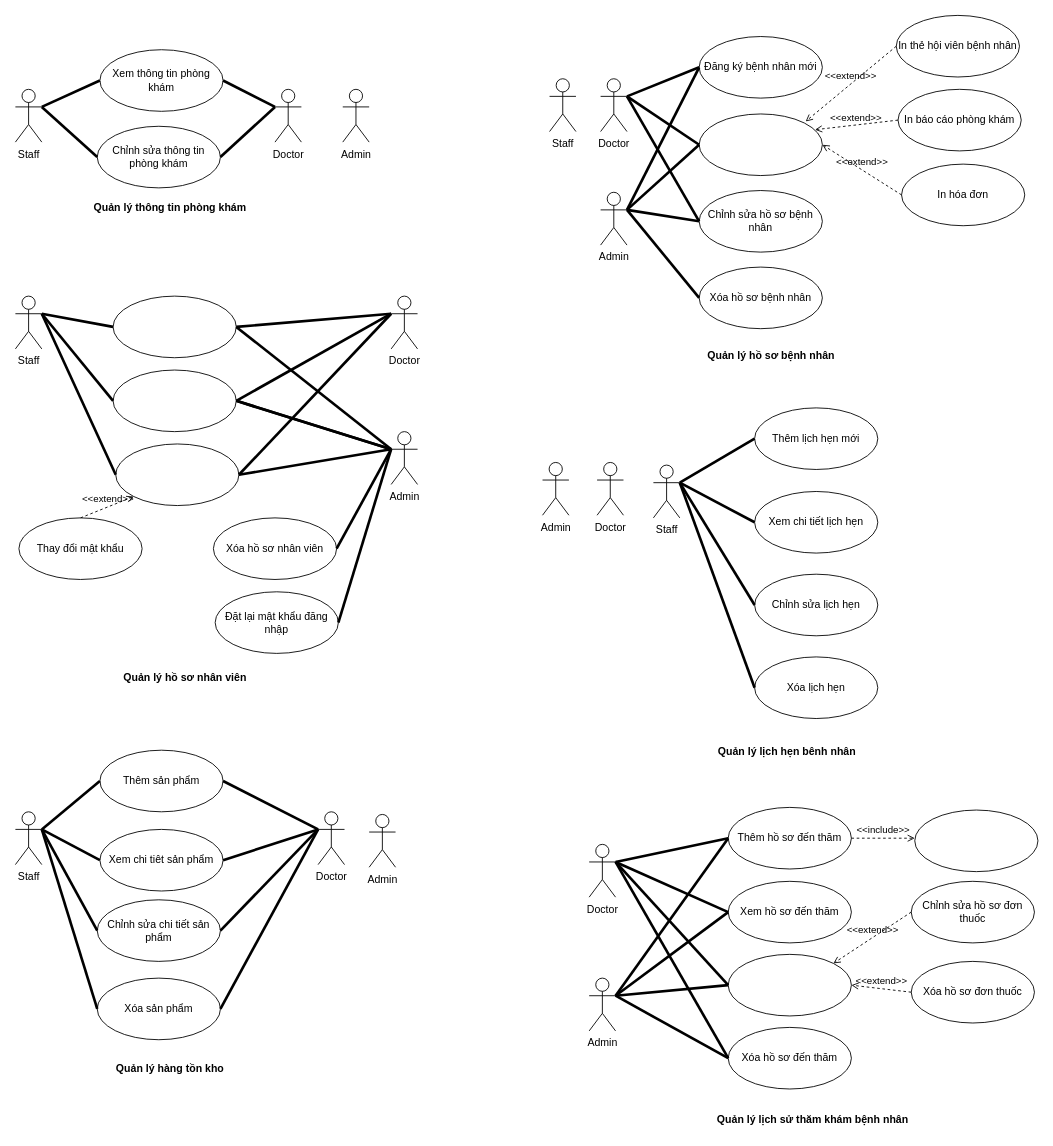
Some shapes in this 1053 by 1146 pixel diagram are drawn without their labels. Here are the shapes that lost their labels. From the top down, the centre of each, then its label:
[760,144]: Xem hồ sơ bệnh nhân
[174,326]: Đăng ký nhân viên mới
[174,400]: Xem hồ sơ nhân viên
[177,474]: Chỉnh sửa hồ sơ nhân viên
[976,840]: Thêm hồ sơ đơn thuốc
[789,984]: Chỉnh sửa hồ sơ đến thăm
